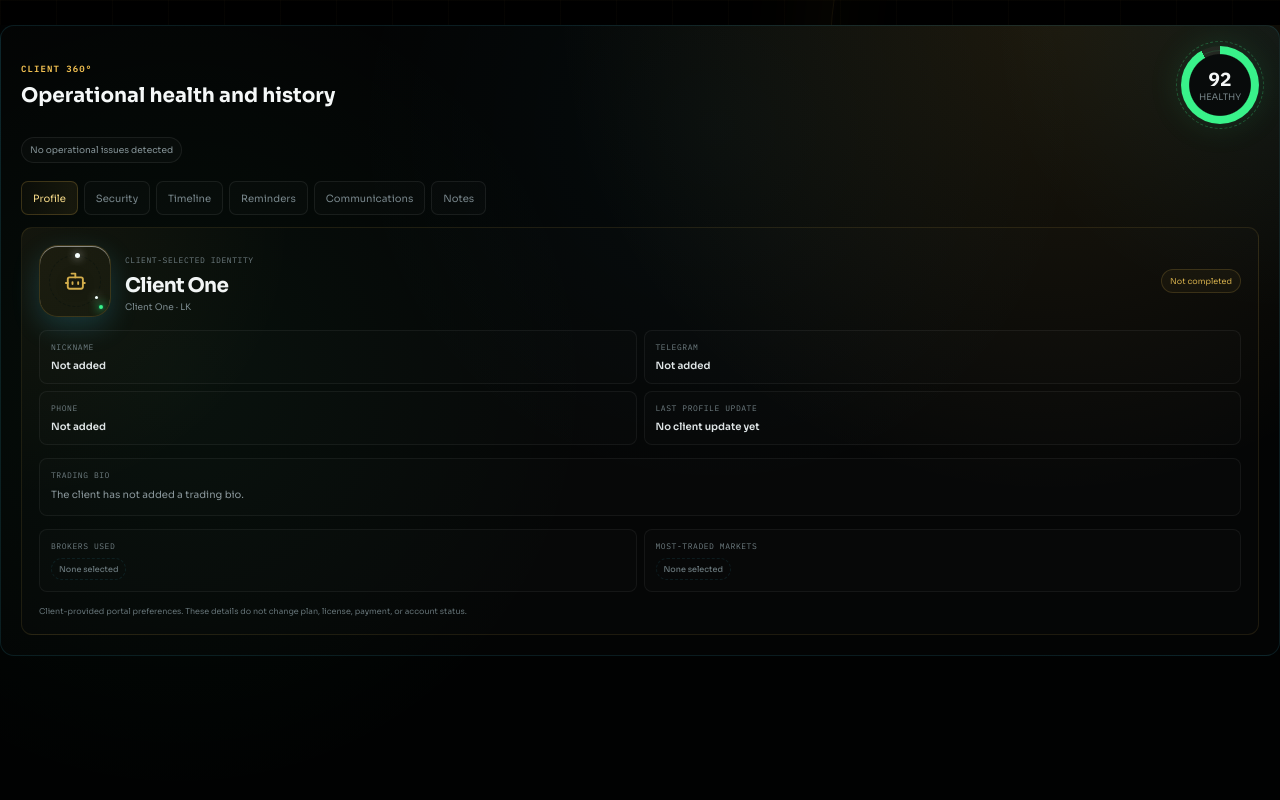
Client 360 portal security summary › shows only sanitized current authentication facts for administrators
The width and height of the screenshot is (1280, 800).
Click the button "Security" at (117, 198), box [84, 181, 150, 215]
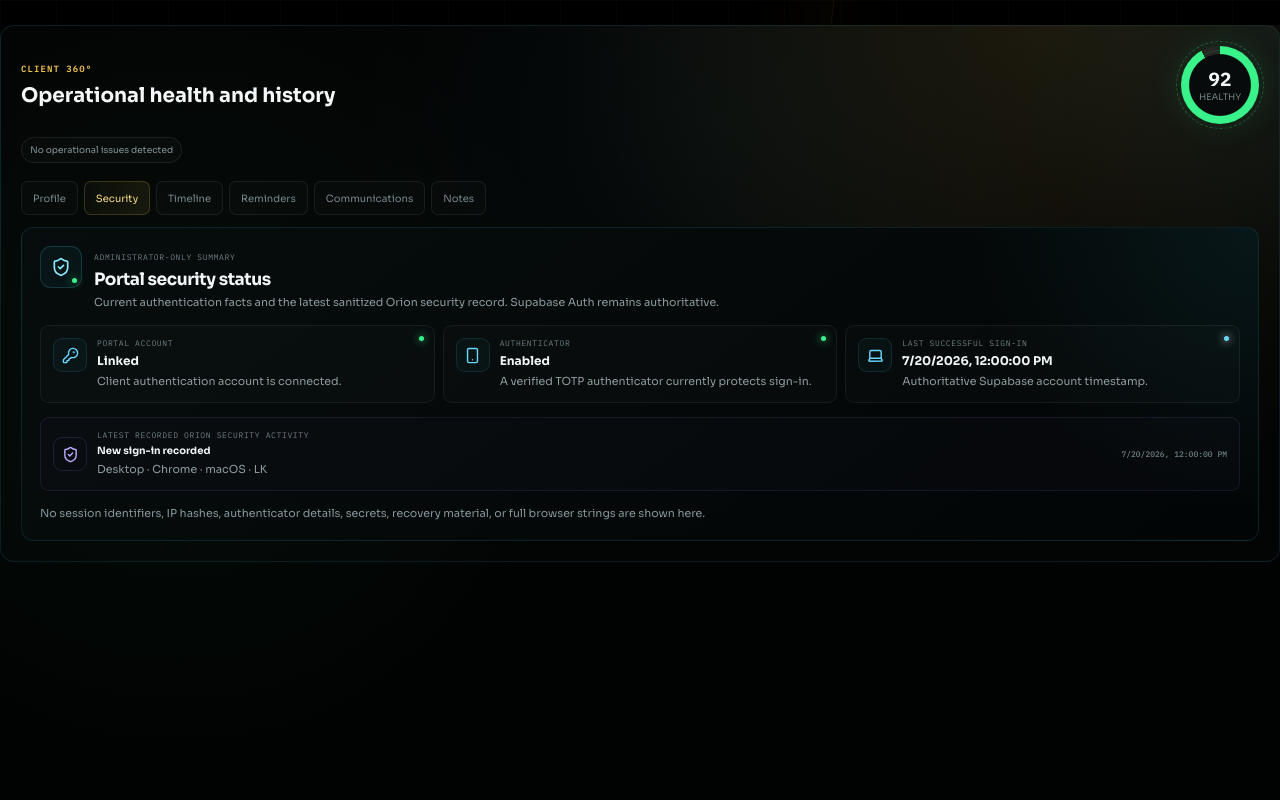
Check: the element "security" is shown, box [21, 227, 1259, 541]
Check: the heading "Portal security status" is shown, box [94, 269, 271, 290]
Check: the text "Enabled" is shown, box [500, 353, 550, 368]
